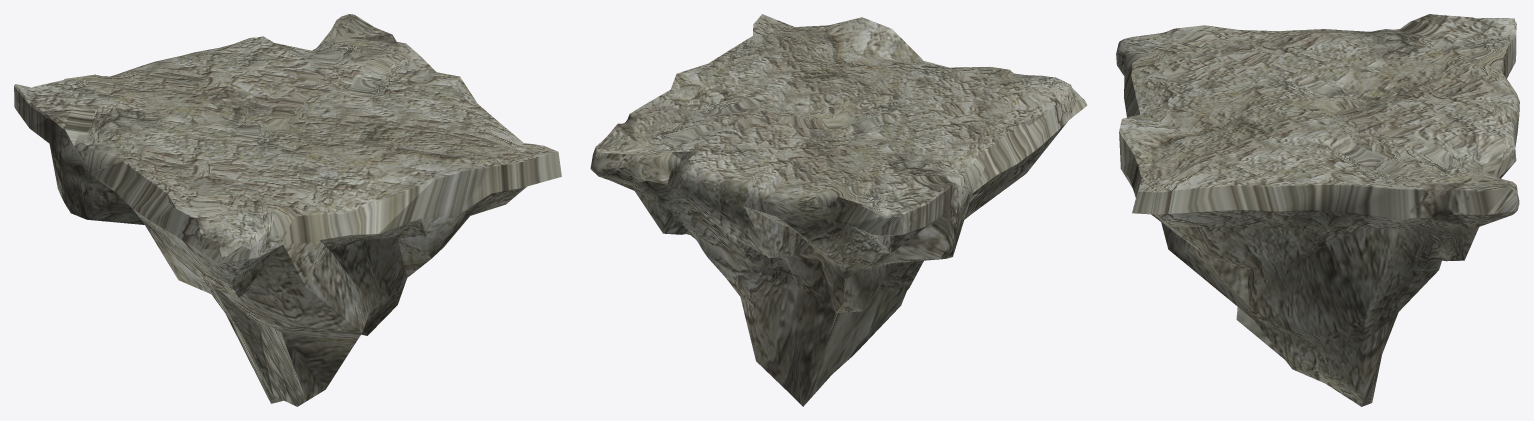
File: SkyIland_Main.glb
The picture shows the model from 3 angles, left to right: view 1: azimuth 30°, elevation 25°; view 2: azimuth 150°, elevation 25°; view 3: azimuth 270°, elevation 25°; orthographic projection. The views are drawn at different scales.
Parts seen in each view (by area): view 1: Plane; view 2: Plane; view 3: Plane.
Part boxes in pixels (x1,y1,x2,y2): Plane: [14, 14, 561, 406]; Plane: [590, 14, 1087, 406]; Plane: [1116, 14, 1519, 406].
Bounding box in the file's own units: 409 × 343 × 415.
Materials: 1 (1 with a texture image).
